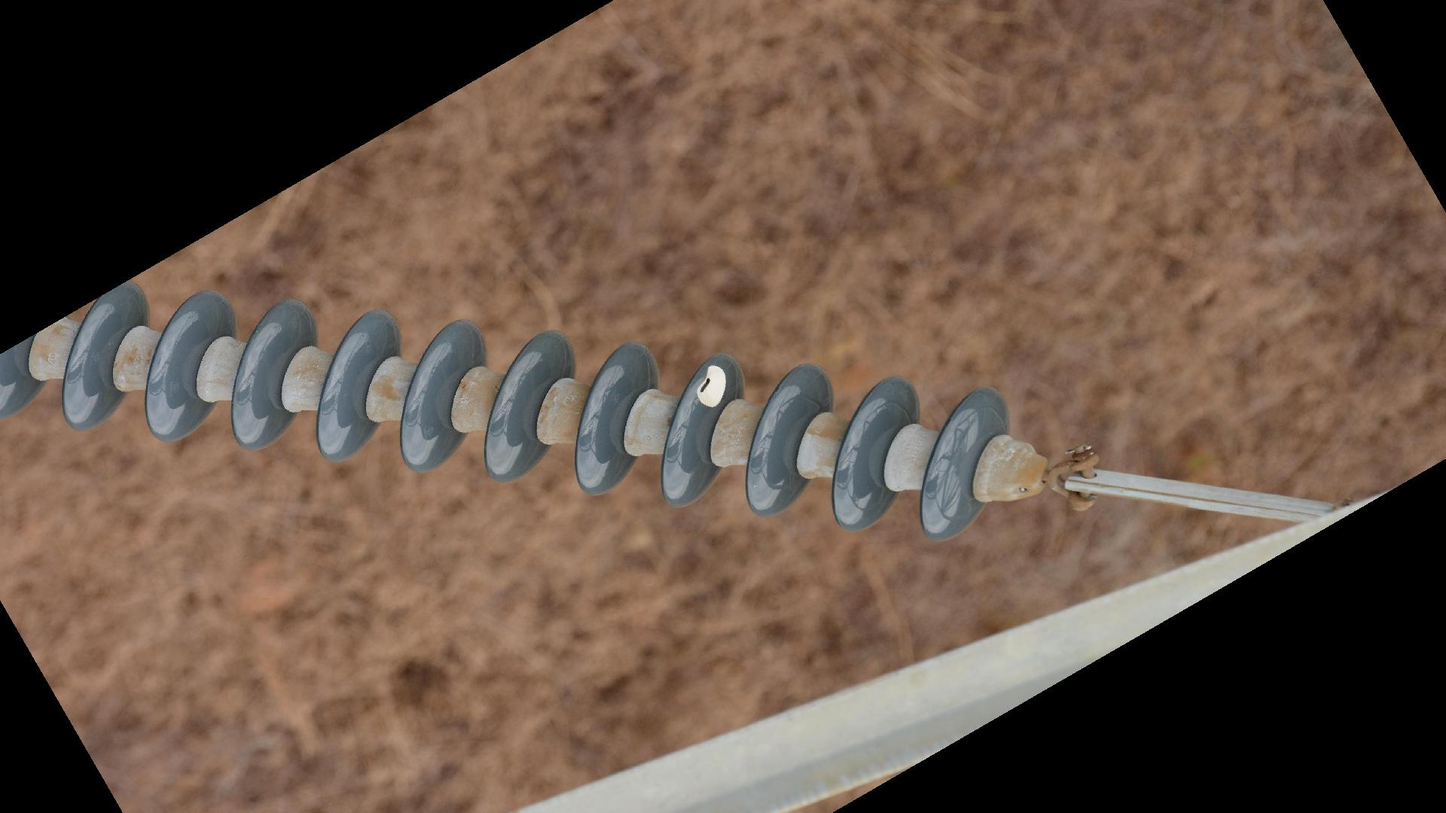insulator: (1, 274, 1016, 544)
insulator_breakage: (691, 358, 734, 411)
